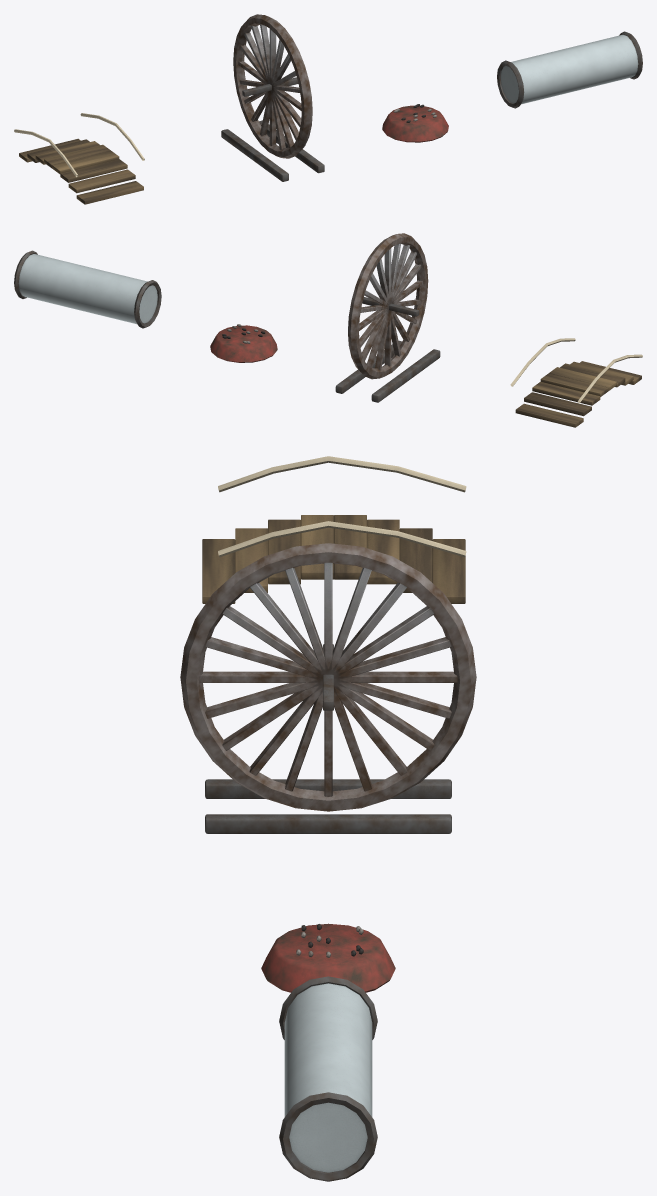
File: g67_pz_hamster_props.glb
3 views of the same model, one above another, from view 1: azimuth 30°, elevation 25°; view 2: azimuth 150°, elevation 25°; view 3: azimuth 270°, elevation 25° (orthographic). The views are drawn at different scales.
Visible parts, largest first — view 1: g67_pz_hamster_props, wheel; view 2: g67_pz_hamster_props, wheel; view 3: g67_pz_hamster_props, wheel.
Boxes of the visible parts, x1,y1,x2,y2 form: g67_pz_hamster_props: [14, 24, 642, 204]; wheel: [233, 14, 312, 158]; g67_pz_hamster_props: [14, 243, 642, 427]; wheel: [348, 233, 428, 379]; g67_pz_hamster_props: [199, 456, 466, 1181]; wheel: [180, 543, 476, 811].
Bounding box in the file's own units: 4.91 × 1.17 × 1.08.
Materials: 1 (1 with a texture image).
